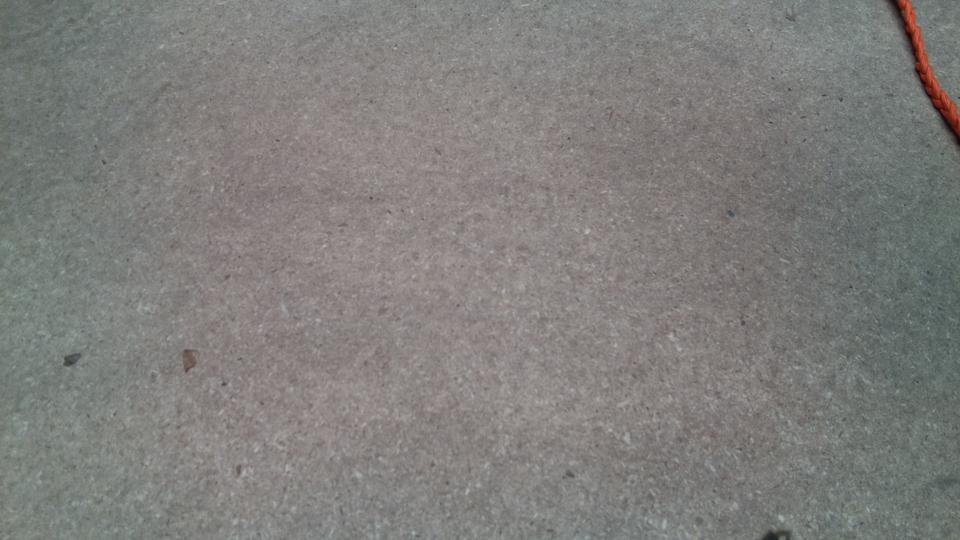rope: (888, 1, 960, 128)
